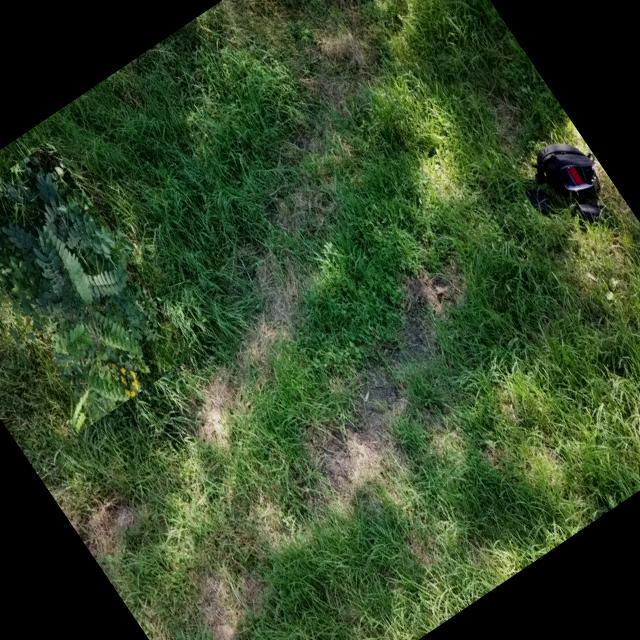Mysore-Thorn-Weed: (0, 141, 195, 434)
